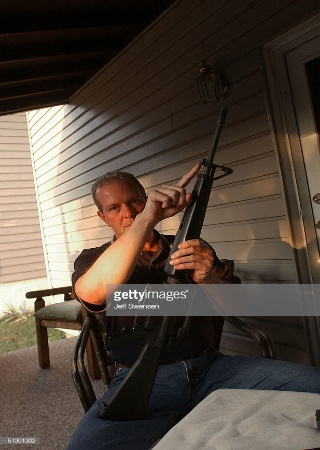rifle: (90, 99, 234, 430)
